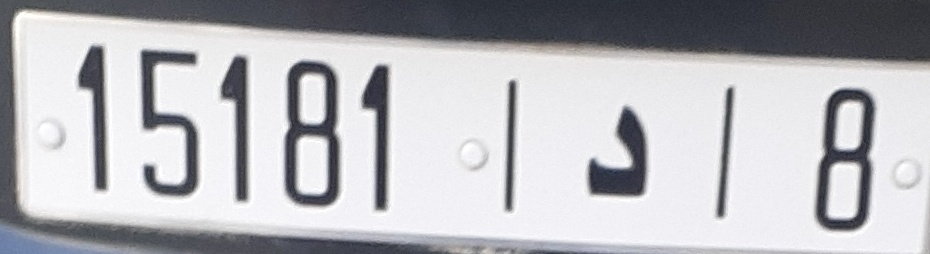1: (71, 37, 123, 197), (355, 61, 401, 214), (215, 49, 259, 204)
5: (132, 45, 206, 202)
8: (277, 52, 349, 212), (812, 81, 881, 233)
d: (578, 99, 657, 207)
